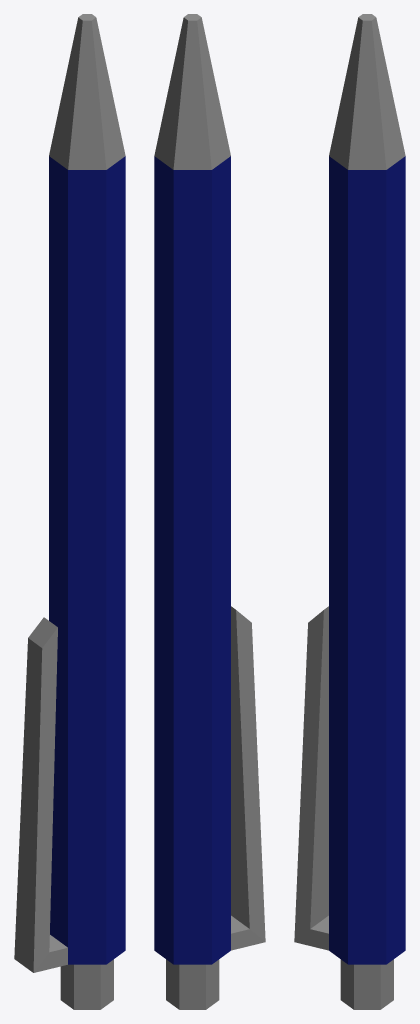
File: dlugopis.fbx
3 views of the same model, side by side, from view 1: azimuth 30°, elevation 25°; view 2: azimuth 210°, elevation 25°; view 3: azimuth 330°, elevation 25° (orthographic).
Parts seen in each view (by area): view 1: Cylinder; view 2: Cylinder; view 3: Cylinder.
Part boxes in pixels (x1,y1,x2,y2): Cylinder: (14,14,125,1009); Cylinder: (154,14,265,1009); Cylinder: (294,14,405,1009).
Bounding box in the file's own units: 1.94 × 19.79 × 1.4.
